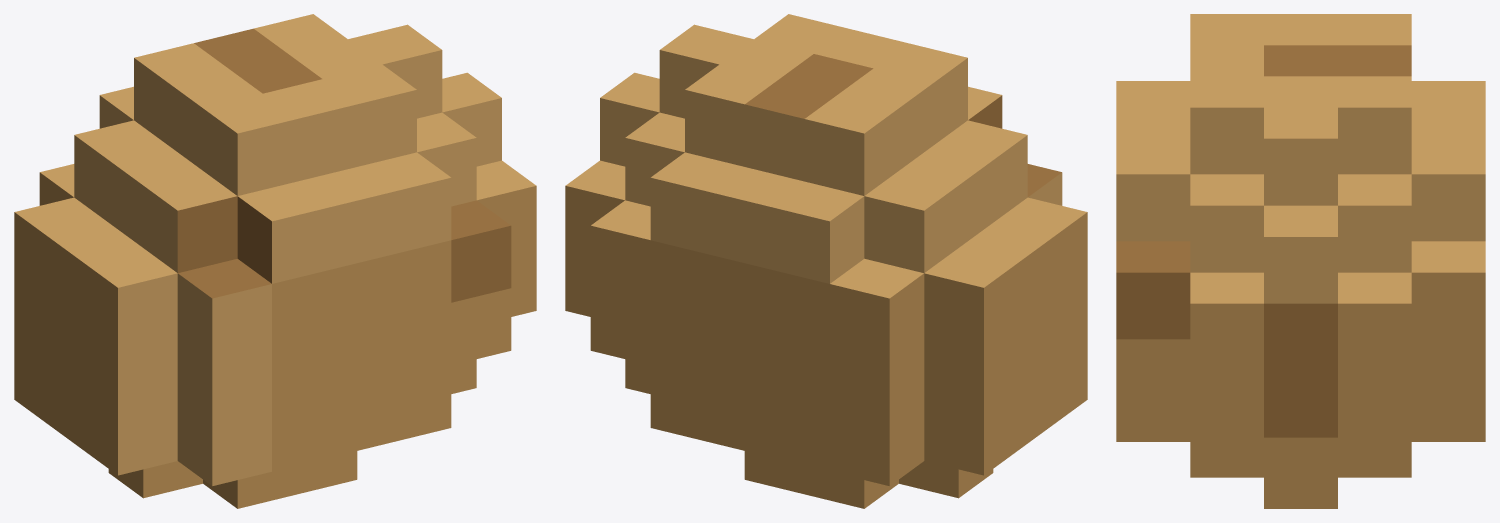
Rendered from SM_VMF_Item_Potato.fbx.
The picture shows the model from 3 angles, left to right: view 1: azimuth 30°, elevation 25°; view 2: azimuth 150°, elevation 25°; view 3: azimuth 270°, elevation 25°; orthographic projection. The views are drawn at different scales.
Parts seen in each view (by area): view 1: SM_VMF_Item_Potato_Tuber; view 2: SM_VMF_Item_Potato_Tuber; view 3: SM_VMF_Item_Potato_Tuber.
Part boxes in pixels (x1,y1,x2,y2): SM_VMF_Item_Potato_Tuber: [14, 14, 536, 508]; SM_VMF_Item_Potato_Tuber: [565, 14, 1087, 508]; SM_VMF_Item_Potato_Tuber: [1116, 14, 1485, 508].
Bounding box in the file's own units: 28 × 24 × 20.
Materials: 1 (1 with a texture image).
